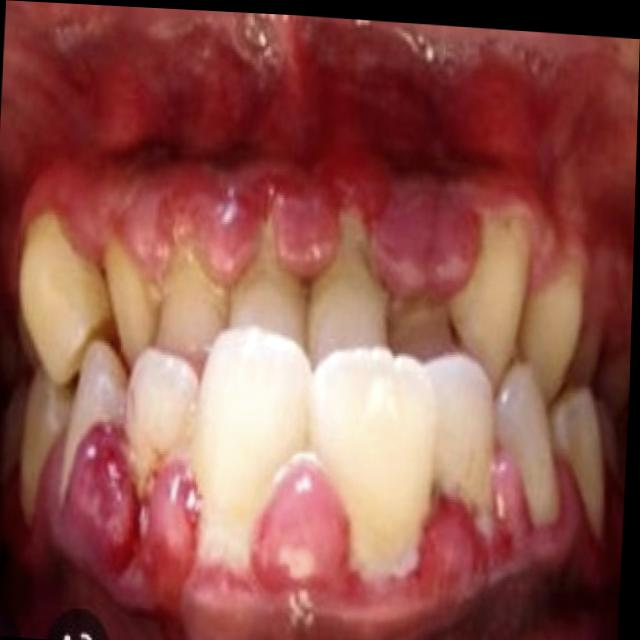gingivitis: (31, 426, 590, 632), (21, 153, 585, 356)
